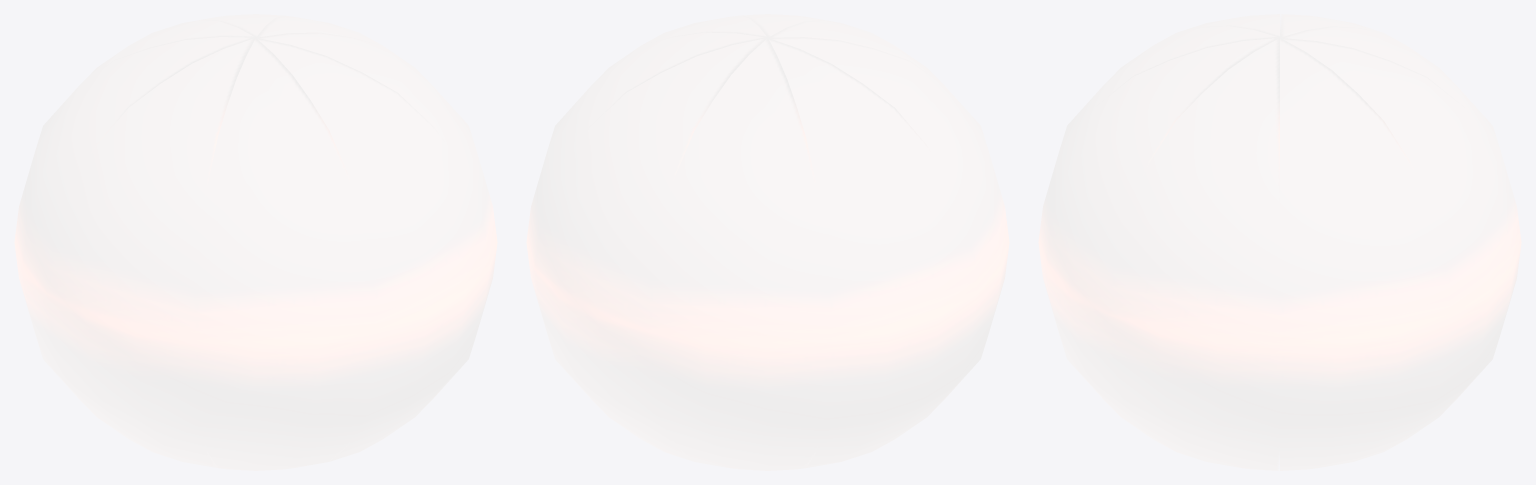
Rendered from stage.glb.
3 renders of one model, left to right at view 1: azimuth 30°, elevation 25°; view 2: azimuth 150°, elevation 25°; view 3: azimuth 270°, elevation 25°, orthographic.
Visible parts, largest first — view 1: KORE_export_5_BoneSpikes_1_0_0; view 2: KORE_export_5_BoneSpikes_1_0_0; view 3: KORE_export_5_BoneSpikes_1_0_0.
Boxes of the visible parts, x1,y1,x2,y2 form: KORE_export_5_BoneSpikes_1_0_0: [14, 14, 497, 470]; KORE_export_5_BoneSpikes_1_0_0: [526, 14, 1009, 470]; KORE_export_5_BoneSpikes_1_0_0: [1038, 14, 1521, 470].
Size of the model in its own units: 18 by 16.83 by 18.
Materials: 3 (3 with a texture image).
